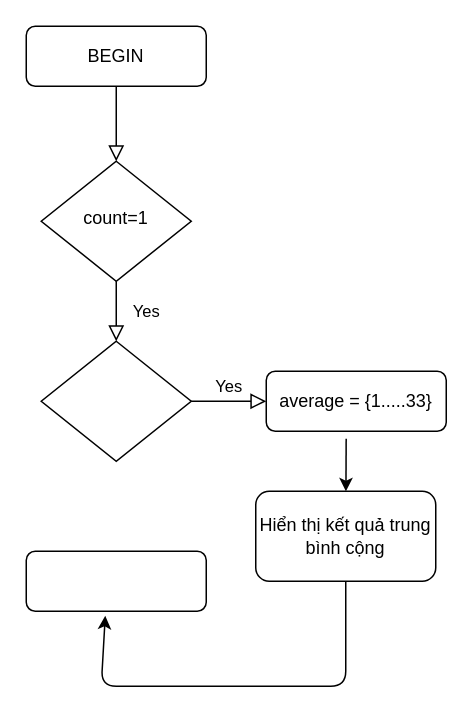
Image size: 473x725. Some labels were removed from this diagram. The box of each missing label's shape, as (x1, y1, x2, y2) in pixels:
count <=33: (40, 340, 191, 461)
END: (25, 550, 206, 611)
